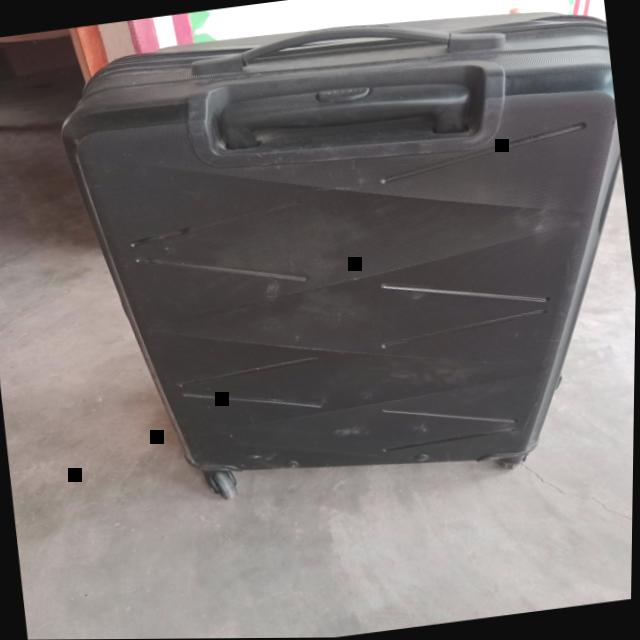luggage: (46, 0, 640, 519)
